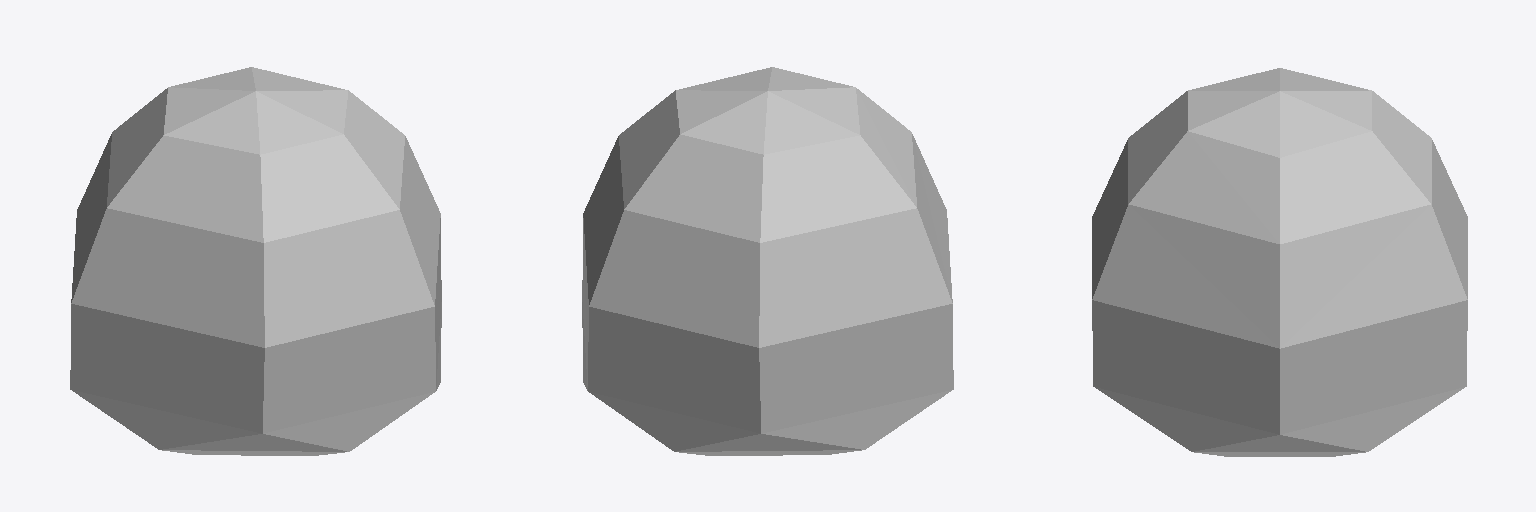
Rendered from Bush_1_A_Color1.obj.
The picture shows the model from 3 angles: view 1: azimuth 30°, elevation 25°; view 2: azimuth 150°, elevation 25°; view 3: azimuth 270°, elevation 25°; orthographic projection.
Parts seen in each view (by area): view 1: Bush_1_A_Color1; view 2: Bush_1_A_Color1; view 3: Bush_1_A_Color1.
Part boxes in pixels (x1,y1,x2,y2): Bush_1_A_Color1: (70,67,441,455); Bush_1_A_Color1: (582,67,953,455); Bush_1_A_Color1: (1092,68,1467,456).
Size of the model in its own units: 0.2672 by 0.2267 by 0.2341.